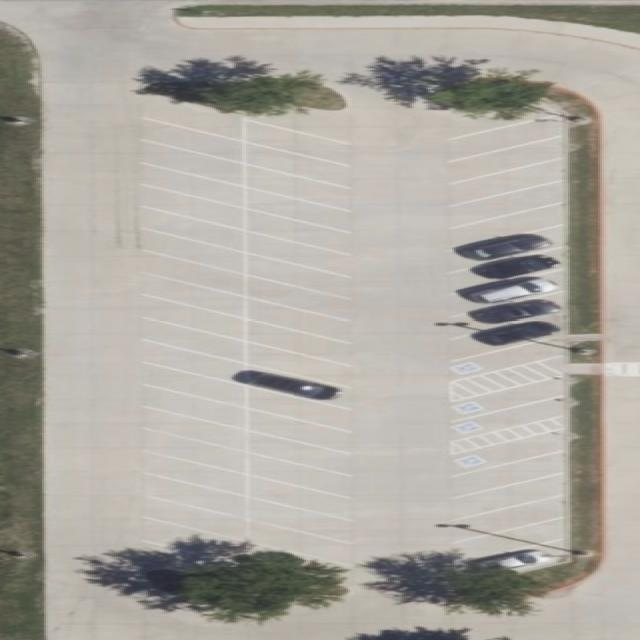Empty: (449, 473, 564, 522), (451, 202, 563, 251), (449, 114, 563, 162), (449, 136, 563, 184), (453, 495, 567, 543), (451, 180, 564, 228), (453, 451, 564, 499), (450, 159, 563, 206), (452, 395, 564, 442), (452, 429, 564, 476), (451, 336, 563, 382), (451, 376, 563, 422), (247, 496, 353, 544), (244, 141, 350, 188), (244, 164, 350, 211), (139, 517, 247, 563), (245, 231, 350, 278), (142, 317, 247, 364), (246, 385, 351, 432), (246, 319, 351, 366), (247, 475, 354, 521), (142, 428, 248, 474), (142, 140, 245, 187), (142, 228, 245, 275), (143, 273, 246, 320), (143, 294, 246, 341), (141, 185, 246, 231), (245, 209, 350, 255), (141, 207, 246, 253), (245, 253, 350, 299), (142, 340, 247, 386), (246, 430, 351, 476), (247, 519, 352, 565), (457, 518, 564, 563), (141, 385, 248, 430), (244, 120, 348, 166), (142, 251, 246, 297), (246, 297, 350, 343), (248, 452, 352, 498), (141, 406, 247, 451), (142, 118, 245, 164), (143, 362, 248, 407), (246, 408, 351, 453), (246, 275, 350, 320), (144, 451, 248, 496), (246, 342, 350, 387), (145, 473, 248, 518), (245, 188, 350, 232), (143, 163, 245, 208), (144, 497, 247, 541)
Parked: (450, 225, 566, 273), (452, 312, 565, 361), (452, 291, 567, 339), (453, 269, 566, 317), (453, 247, 566, 294), (246, 364, 351, 411), (470, 539, 566, 582)
